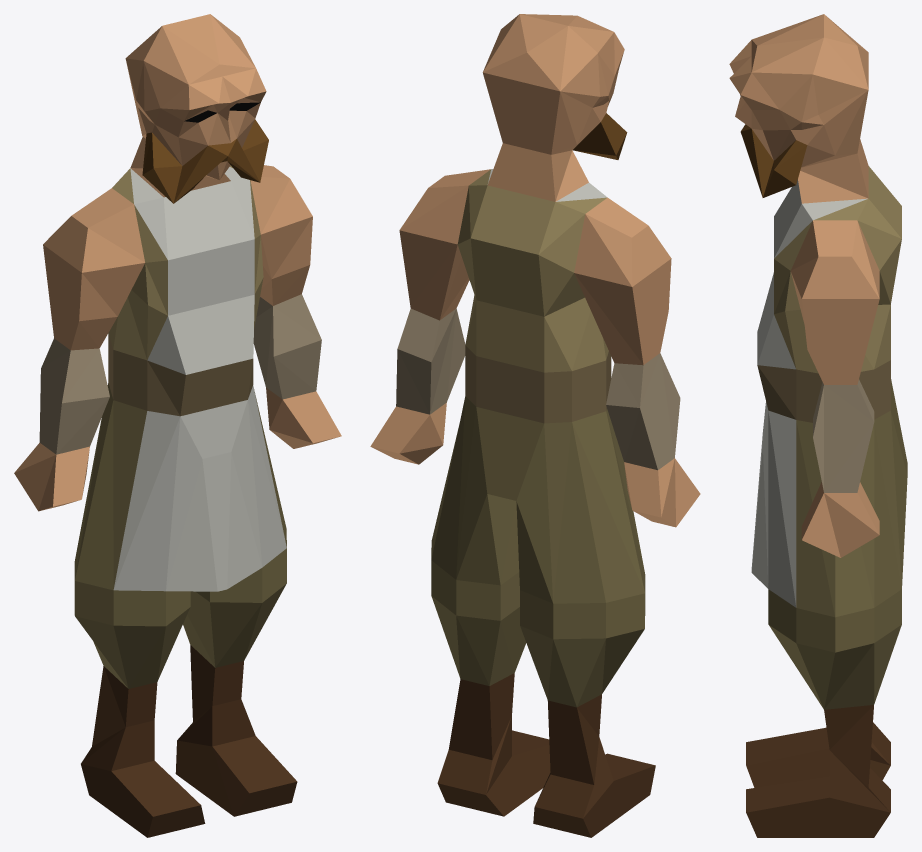
The model's file is ore-merchants.gltf.
3 views of the same model, side by side, from view 1: azimuth 30°, elevation 25°; view 2: azimuth 150°, elevation 25°; view 3: azimuth 270°, elevation 25° (orthographic).
Size of the model in its own units: 60 by 154 by 32.
1 material, 1 textured.
